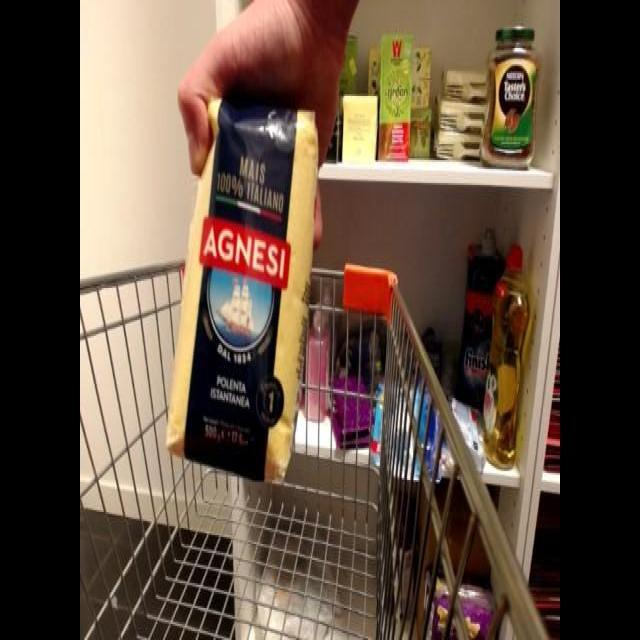Agnesi Polenta: (165, 89, 326, 483)
